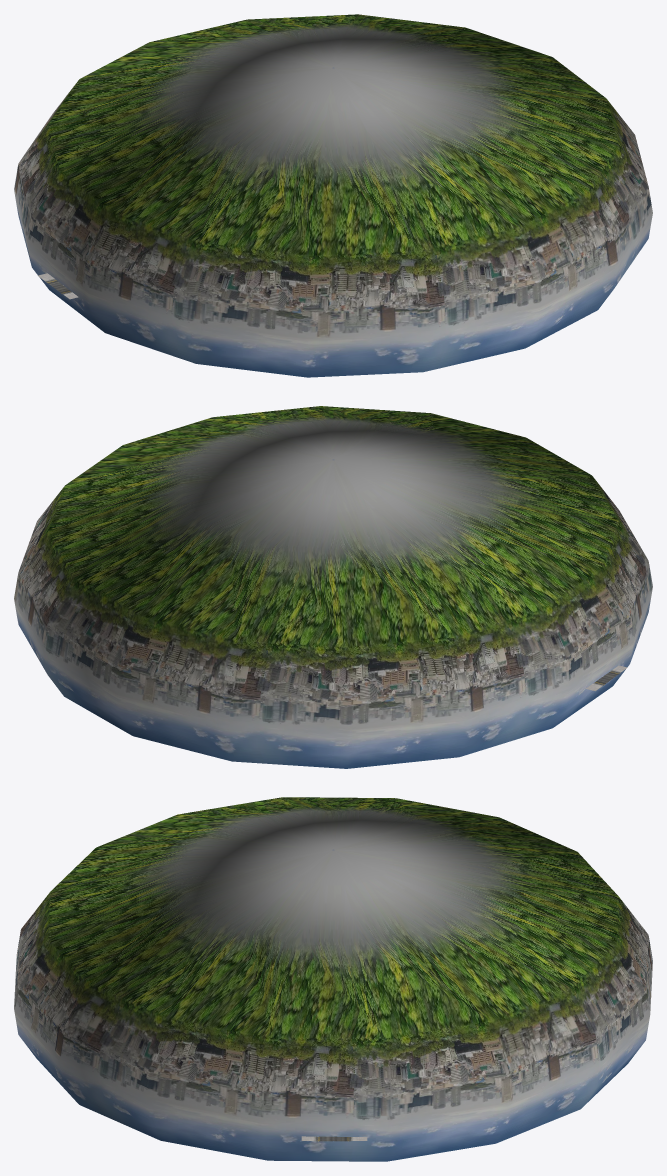
File: Prison_Yard.glb
The picture shows the model from 3 angles, top to bottom: view 1: azimuth 30°, elevation 25°; view 2: azimuth 150°, elevation 25°; view 3: azimuth 270°, elevation 25°; orthographic projection.
Visible parts, largest first — view 1: Prison_Yard; view 2: Prison_Yard; view 3: Prison_Yard.
Boxes of the visible parts, x1,y1,x2,y2 form: Prison_Yard: (14,14,652,377); Prison_Yard: (14,406,652,768); Prison_Yard: (14,797,652,1161).
Size of the model in its own units: 1039 by 328 by 1018.
24 materials, 23 textured.
